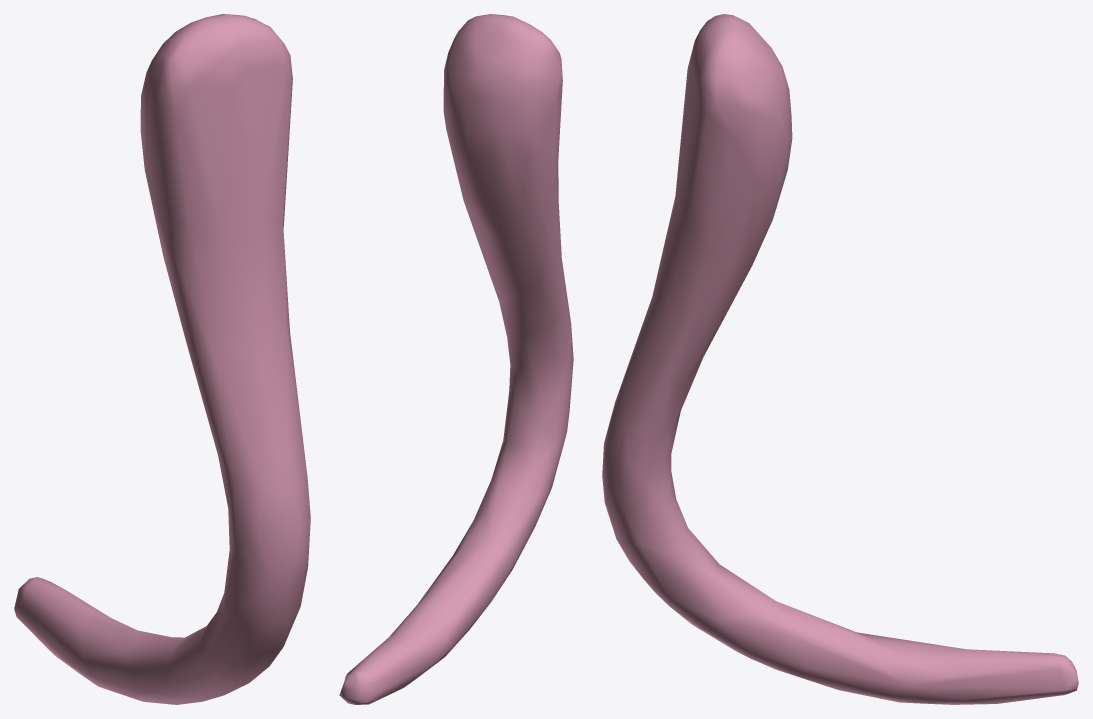
3 renders of one model, left to right at view 1: azimuth 30°, elevation 25°; view 2: azimuth 150°, elevation 25°; view 3: azimuth 270°, elevation 25°, orthographic. The views are drawn at different scales.
Visible parts, largest first — view 1: 尿道海绵体; view 2: 尿道海绵体; view 3: 尿道海绵体.
Boxes of the visible parts, <box> form: 尿道海绵体: <box>14,14,310,704</box>; 尿道海绵体: <box>339,14,573,704</box>; 尿道海绵体: <box>602,14,1078,704</box>.
Bounding box in the file's own units: 0.0313 × 0.1652 × 0.105.
